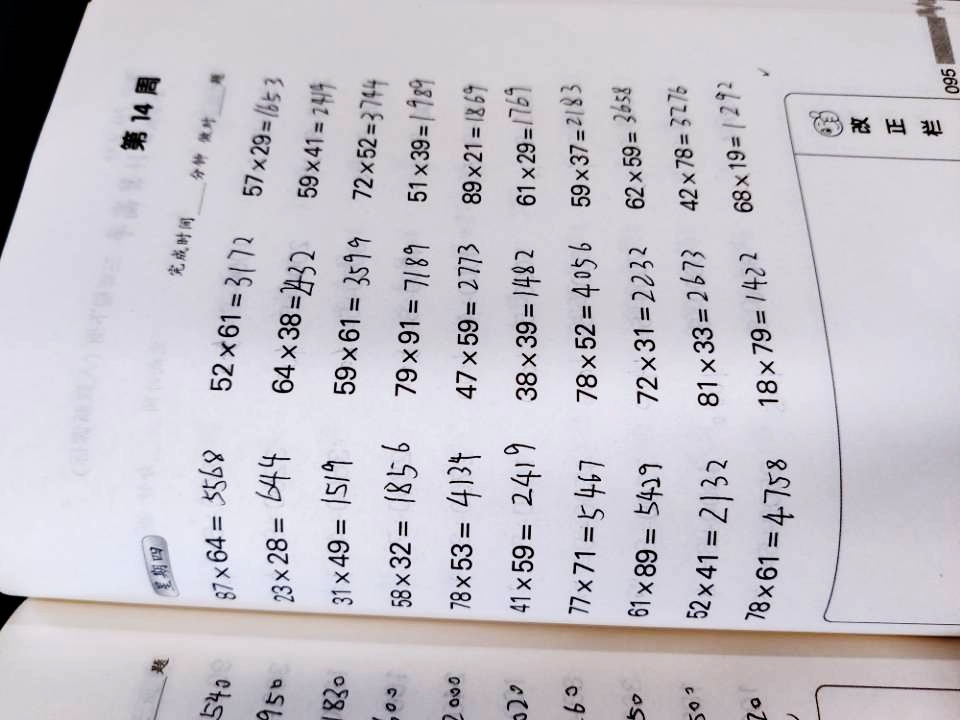equation: (421, 445, 492, 621), (738, 442, 800, 634), (364, 428, 426, 617), (487, 430, 544, 620), (244, 443, 309, 609), (726, 242, 788, 416), (387, 227, 445, 409), (308, 443, 369, 616), (228, 43, 290, 211), (440, 226, 496, 411), (611, 442, 668, 621), (190, 438, 251, 602), (676, 448, 731, 625), (550, 451, 606, 622), (202, 229, 257, 402), (672, 239, 725, 418), (327, 222, 378, 408), (558, 235, 608, 419), (502, 235, 553, 413), (710, 65, 768, 220), (618, 237, 669, 410), (656, 66, 713, 220), (296, 62, 348, 218), (266, 235, 314, 403), (498, 66, 551, 216), (604, 72, 655, 222), (398, 61, 447, 215), (450, 70, 501, 215), (552, 67, 600, 219), (347, 61, 396, 205)
